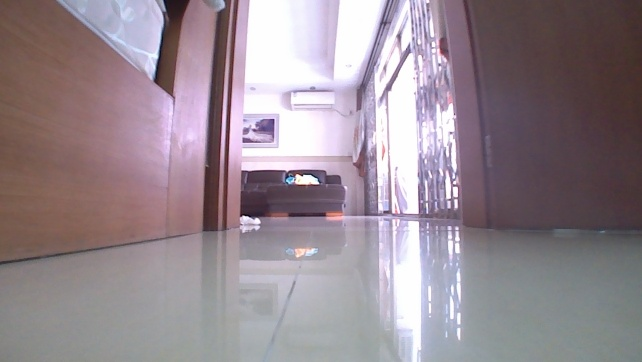door_anno: (437, 0, 641, 229)
sofa1: (239, 167, 350, 221)
